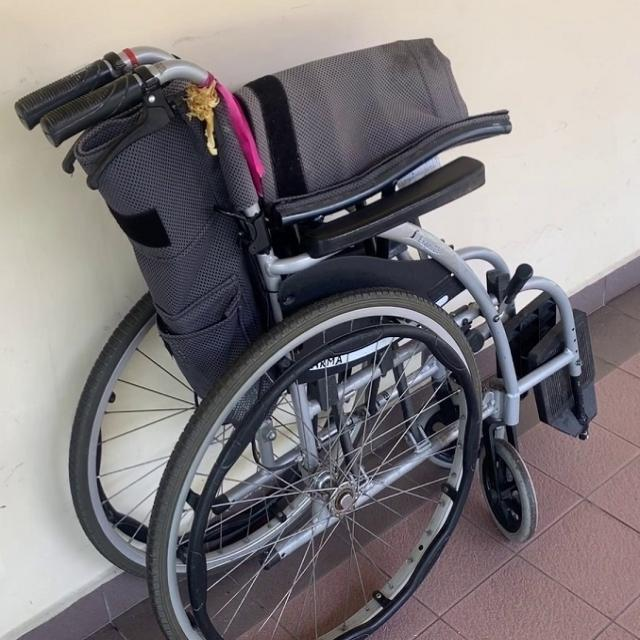wheelchair: (13, 20, 640, 640)
